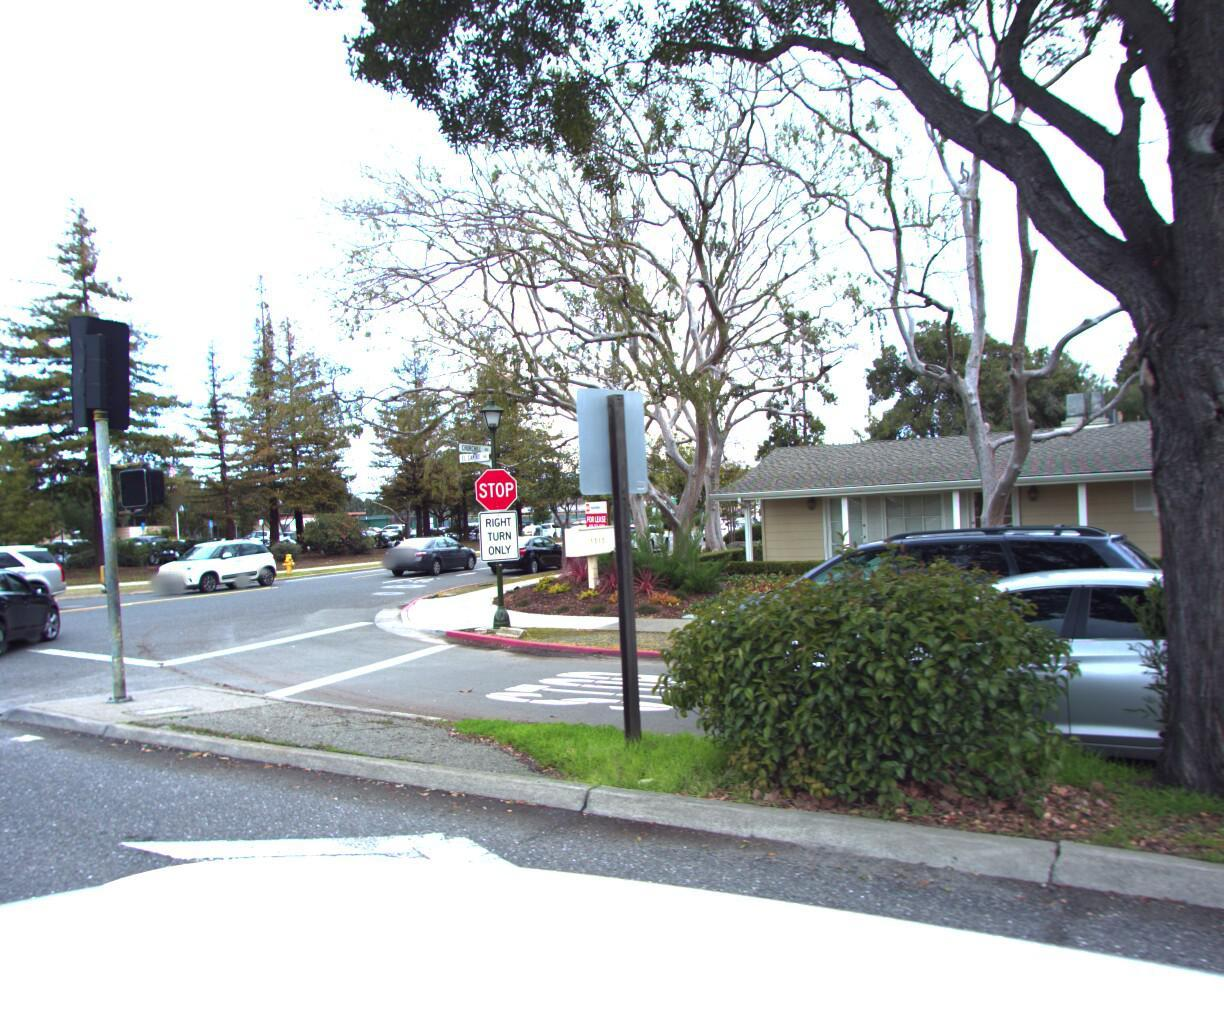car: (735, 555, 1224, 853), (669, 504, 1164, 727), (0, 547, 82, 677), (138, 530, 285, 590), (0, 537, 78, 627), (379, 525, 484, 574), (478, 524, 572, 571)
